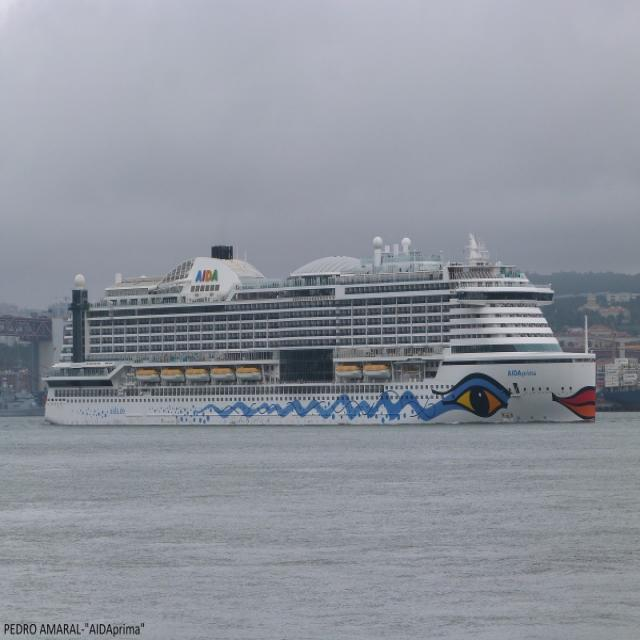cruises: (40, 231, 601, 433)
